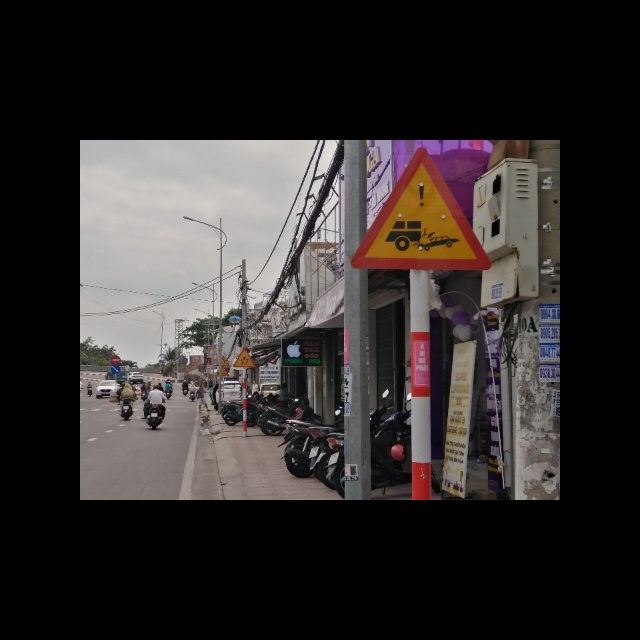Đoạn đường hay xảy ra tai nạn: (350, 146, 492, 269)
